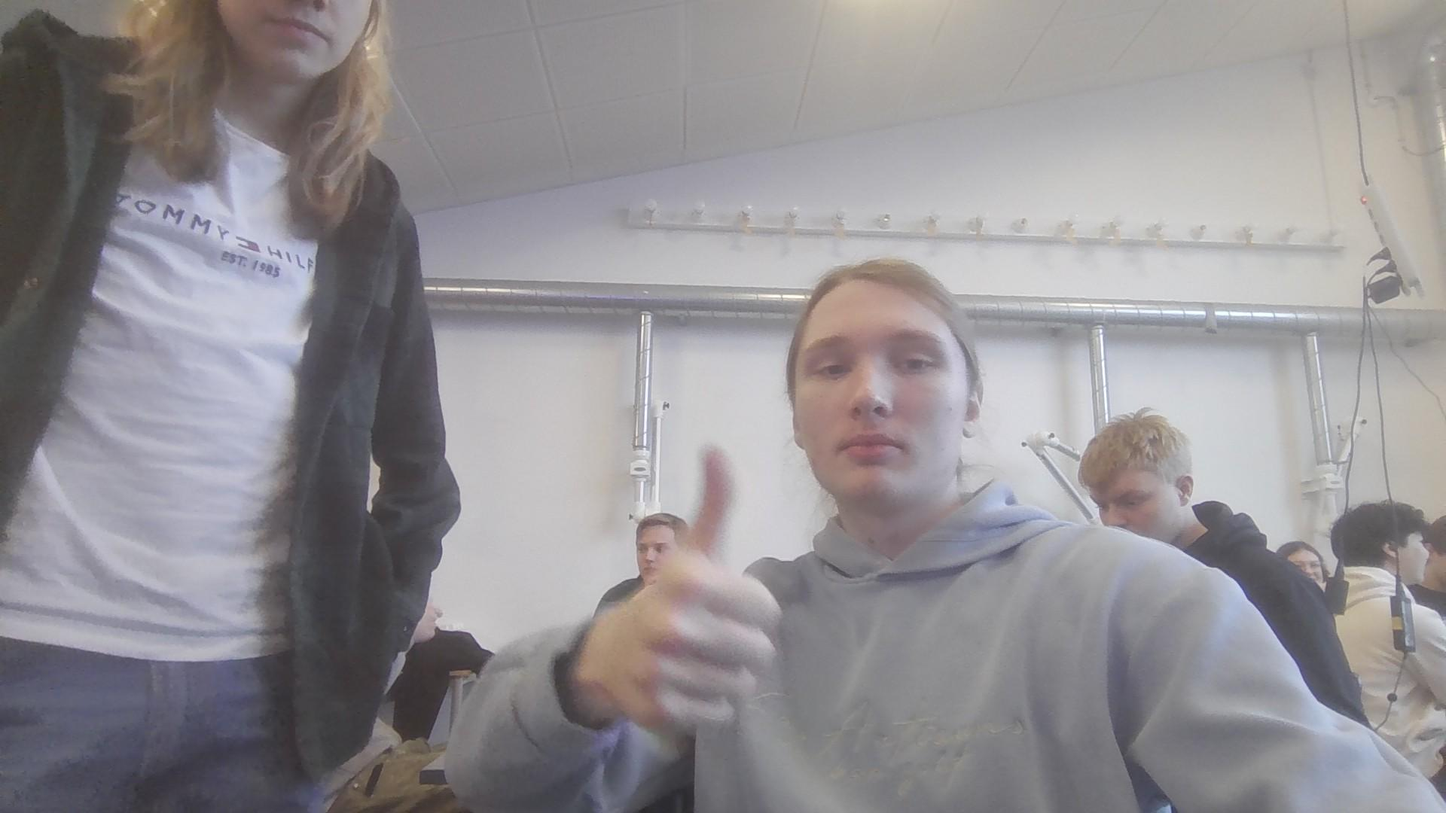thumbs up: (594, 441, 791, 729)
